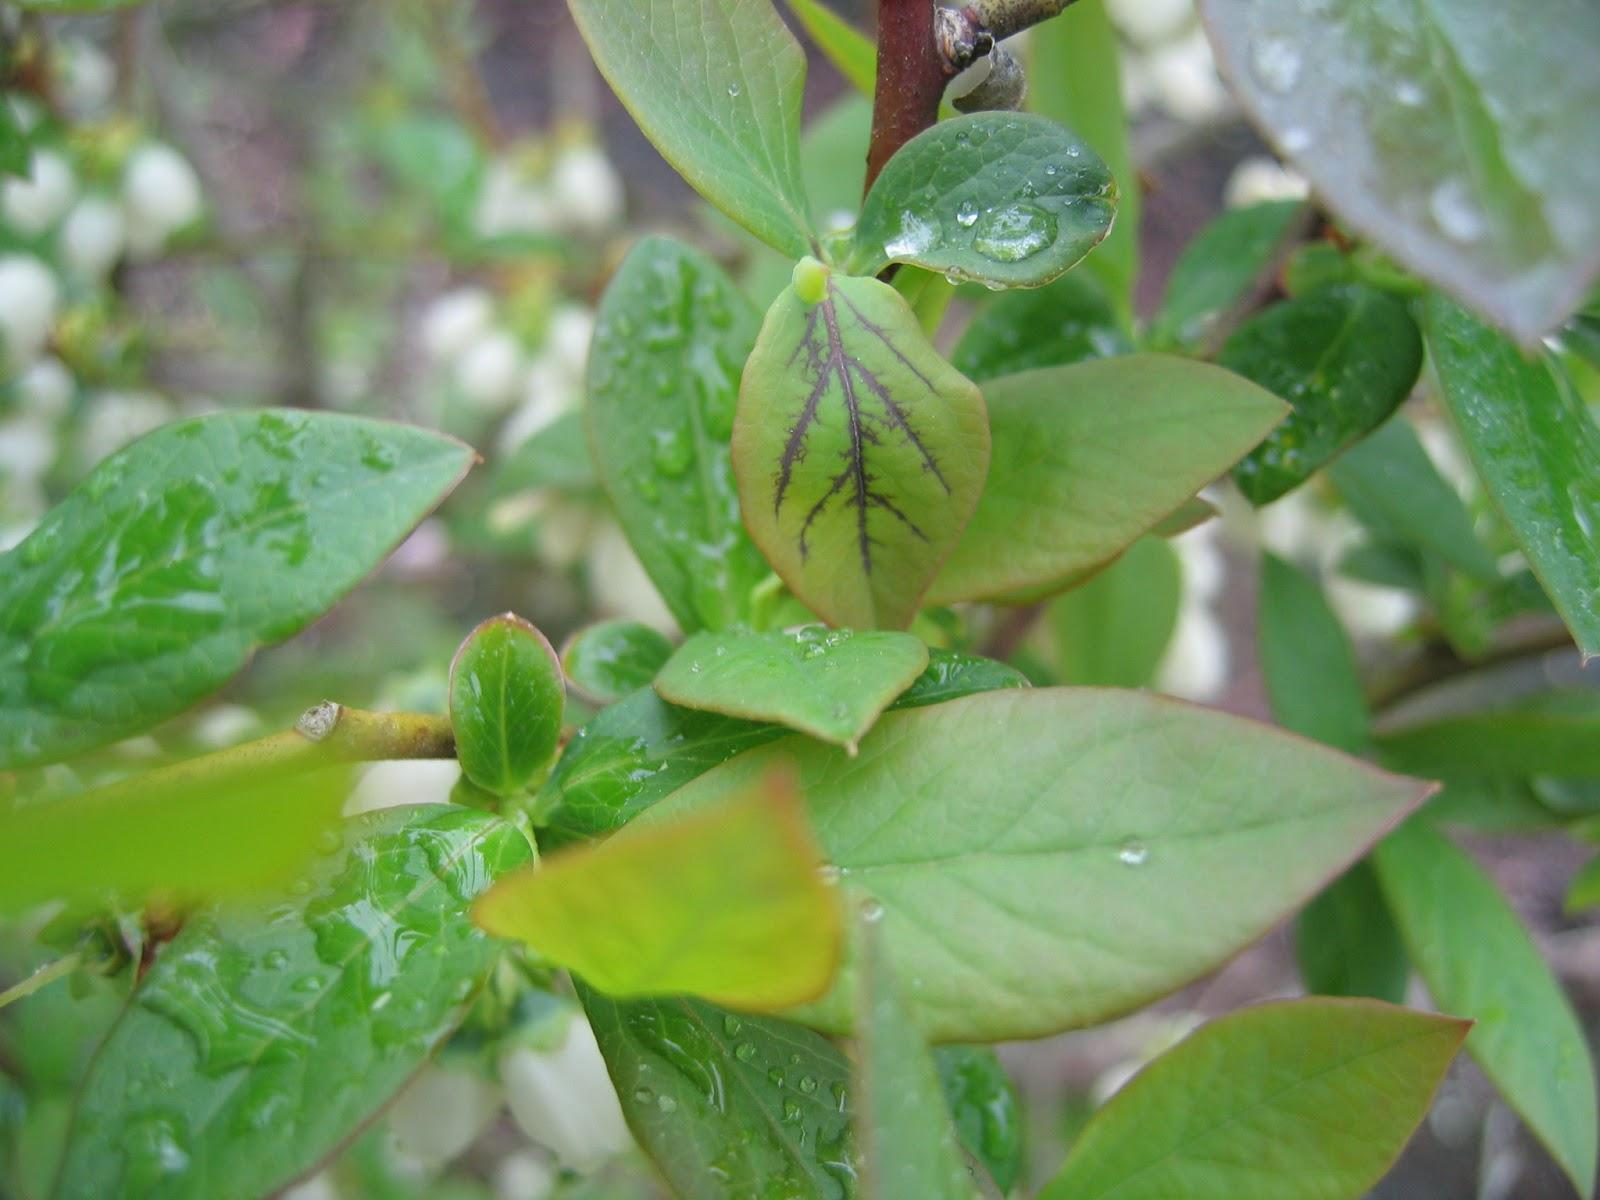Blueberry leaf: (631, 679, 1516, 1059), (1, 401, 533, 734), (892, 292, 1400, 637), (713, 250, 993, 668), (572, 3, 842, 268), (449, 609, 576, 808)
